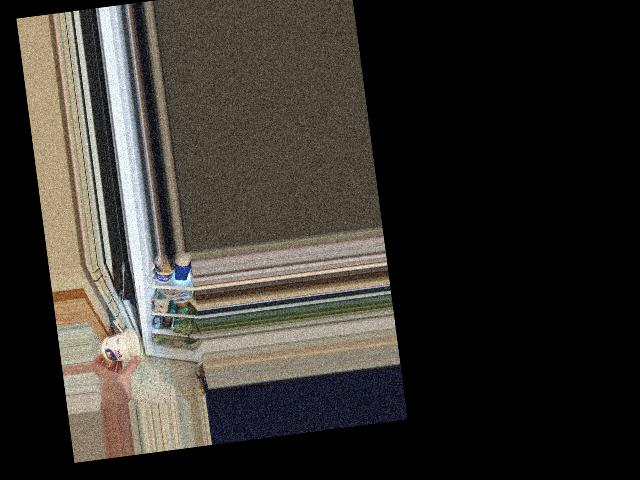cotage: (96, 328, 141, 362)
